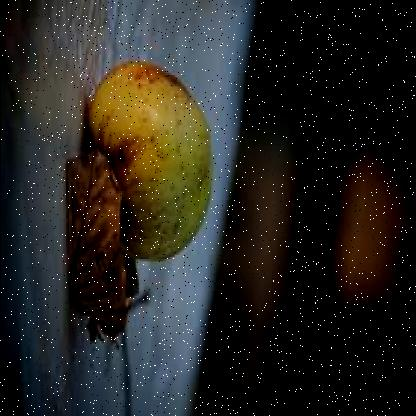damaged_apple: (79, 64, 207, 268)
